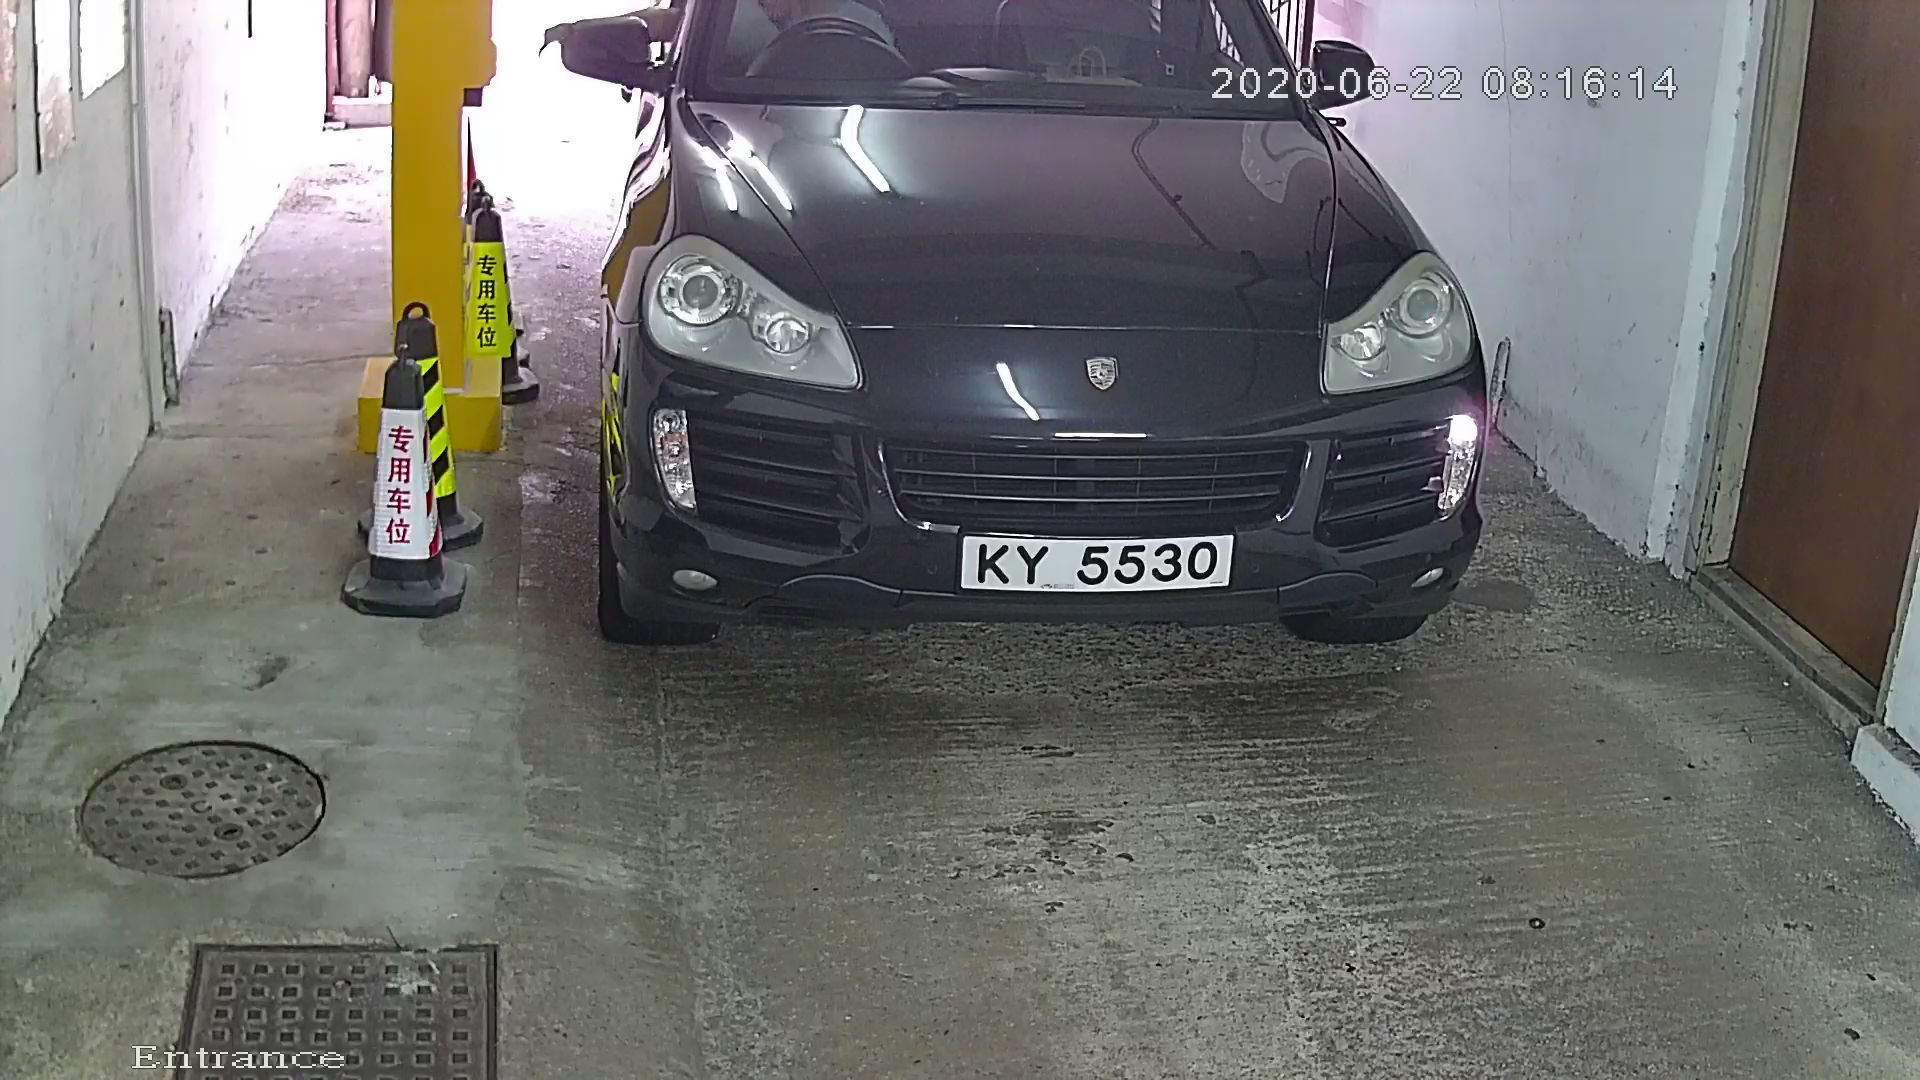privatecar: (506, 1, 1538, 742)
